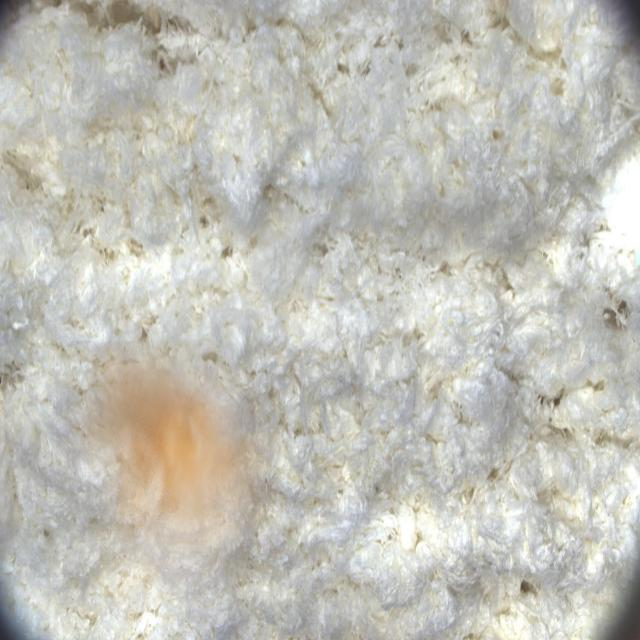dust: (56, 341, 282, 626)
